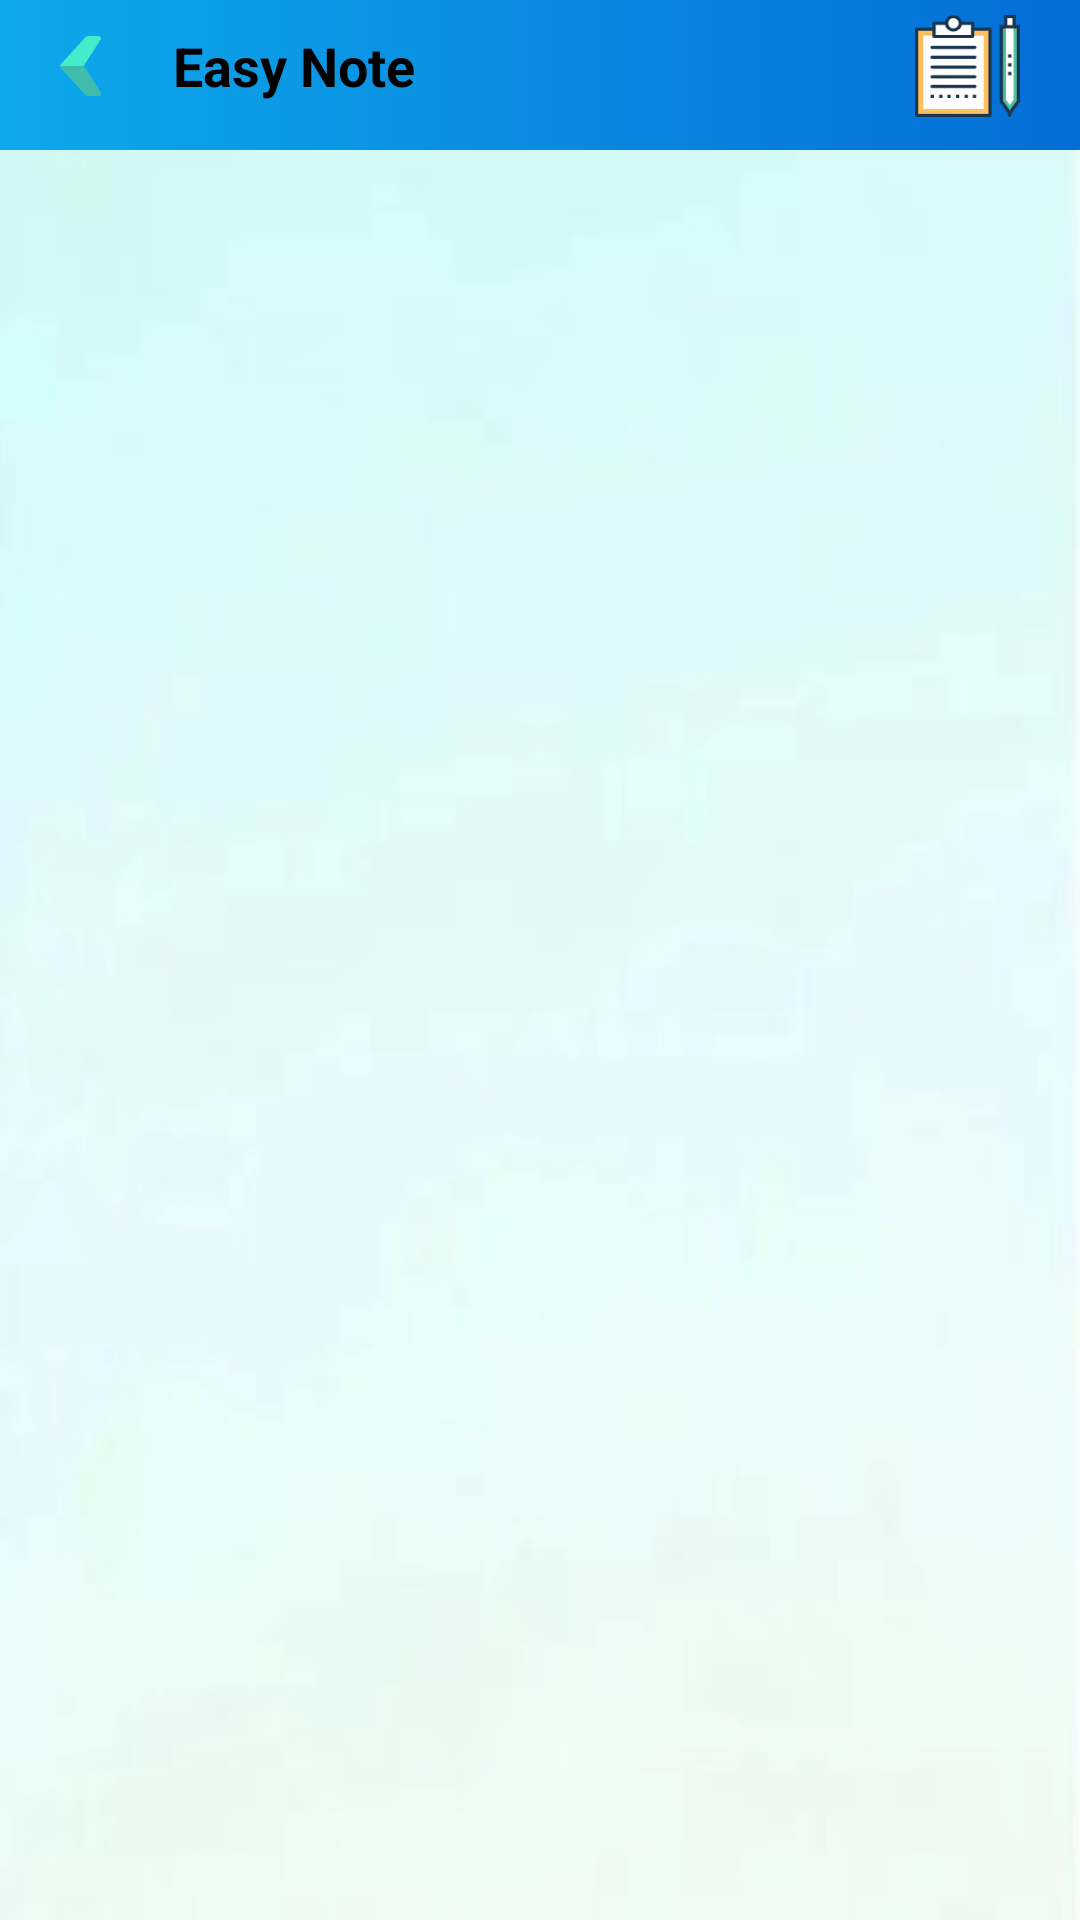

Named icons in this screenshot (1080 x 1920) and their centers, (x,y):
backward: (80,66)
